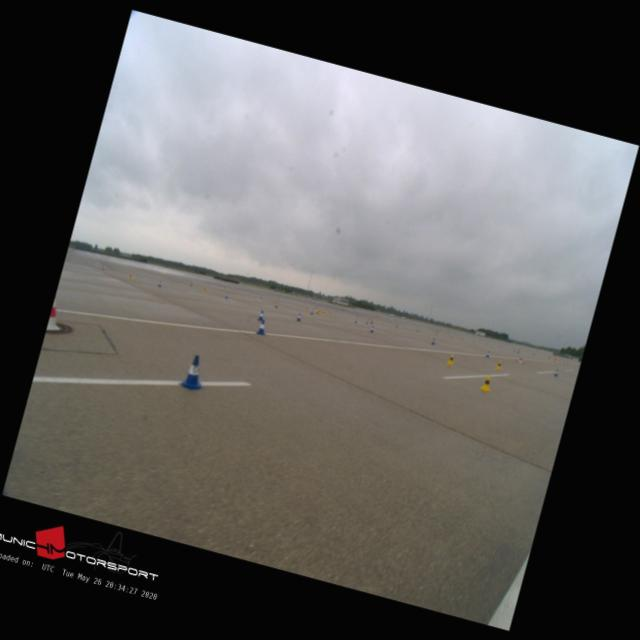blue_cone: (178, 352, 209, 390), (255, 318, 268, 335), (257, 309, 265, 321), (296, 312, 302, 322), (553, 369, 559, 377), (484, 350, 490, 357), (431, 338, 436, 345), (370, 325, 374, 333)
yellow_cone: (478, 374, 494, 391), (445, 352, 456, 365), (496, 360, 502, 370)
